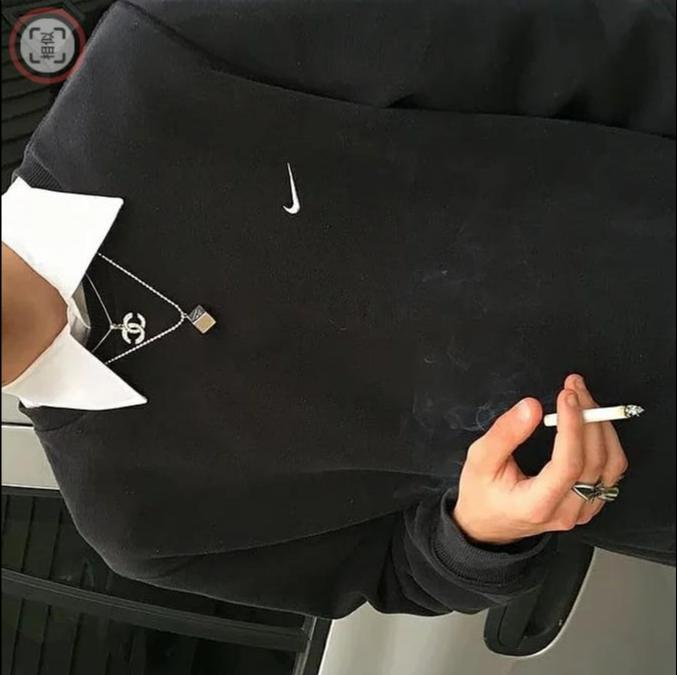Cigarette: (542, 403, 642, 428)
